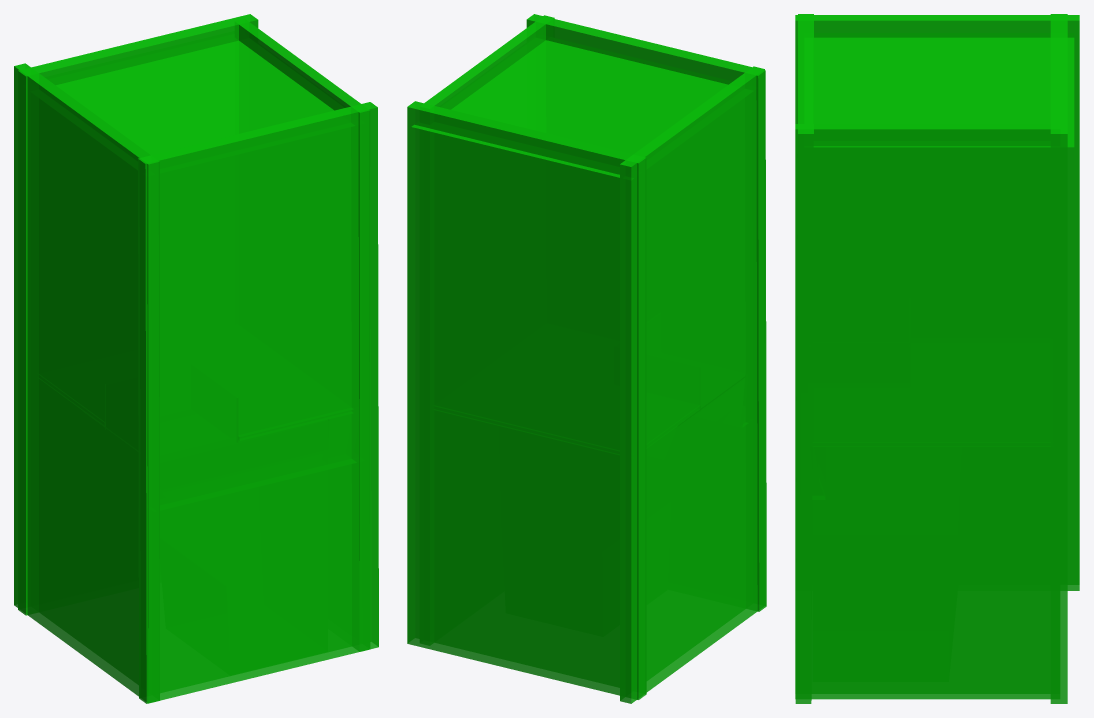
Rendered from Machine_Physics.fbx.
3 views of the same model, side by side, from view 1: azimuth 30°, elevation 25°; view 2: azimuth 150°, elevation 25°; view 3: azimuth 270°, elevation 25° (orthographic). The views are drawn at different scales.
Visible parts, largest first — view 1: Machine_Physics; view 2: Machine_Physics; view 3: Machine_Physics.
Boxes of the visible parts, bbox=[...] form: Machine_Physics: bbox=[14, 14, 378, 703]; Machine_Physics: bbox=[407, 14, 766, 703]; Machine_Physics: bbox=[795, 14, 1079, 703].
Size of the model in its own units: 75.46 by 167 by 75.6.
